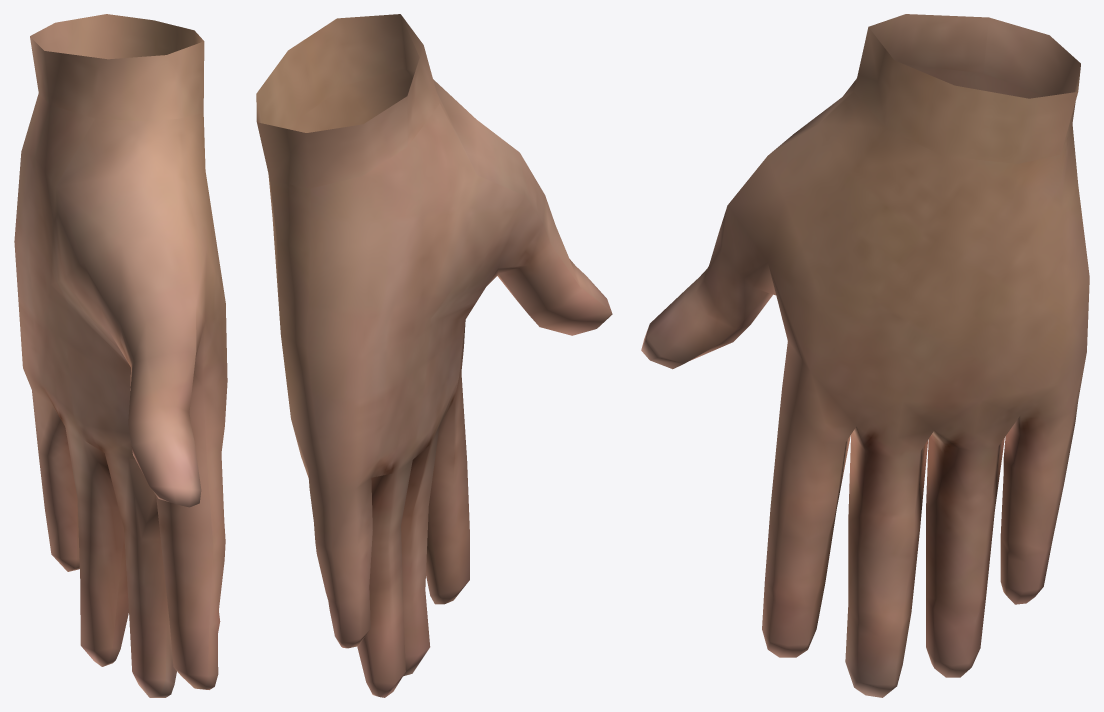
The model's file is character_hand_r.glb.
3 views of the same model, side by side, from view 1: azimuth 30°, elevation 25°; view 2: azimuth 150°, elevation 25°; view 3: azimuth 270°, elevation 25° (orthographic). The views are drawn at different scales.
Visible parts, largest first — view 1: tripo_node_bc81f8f9-a104-44a7-afac-f094b41faff7; view 2: tripo_node_bc81f8f9-a104-44a7-afac-f094b41faff7; view 3: tripo_node_bc81f8f9-a104-44a7-afac-f094b41faff7.
Part boxes in pixels (x1,y1,x2,y2): tripo_node_bc81f8f9-a104-44a7-afac-f094b41faff7: (14, 14, 227, 697); tripo_node_bc81f8f9-a104-44a7-afac-f094b41faff7: (256, 14, 612, 697); tripo_node_bc81f8f9-a104-44a7-afac-f094b41faff7: (641, 14, 1089, 697).
Bounding box in the file's own units: 0.0649 × 0.2205 × 0.1333.
1 material, 1 textured.
